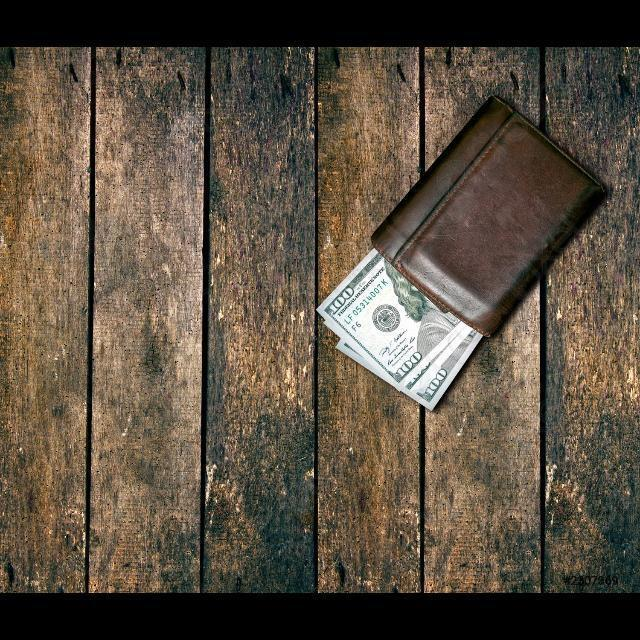Wallet: (350, 48, 628, 374)
